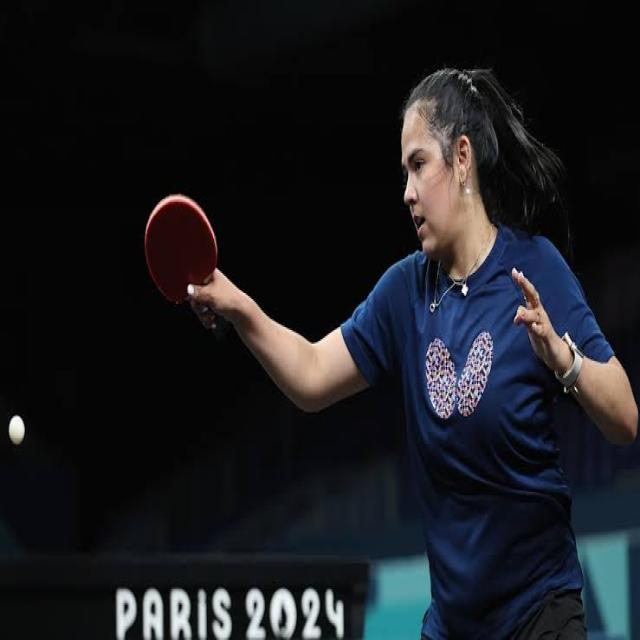TT Racket: (122, 169, 231, 334)
